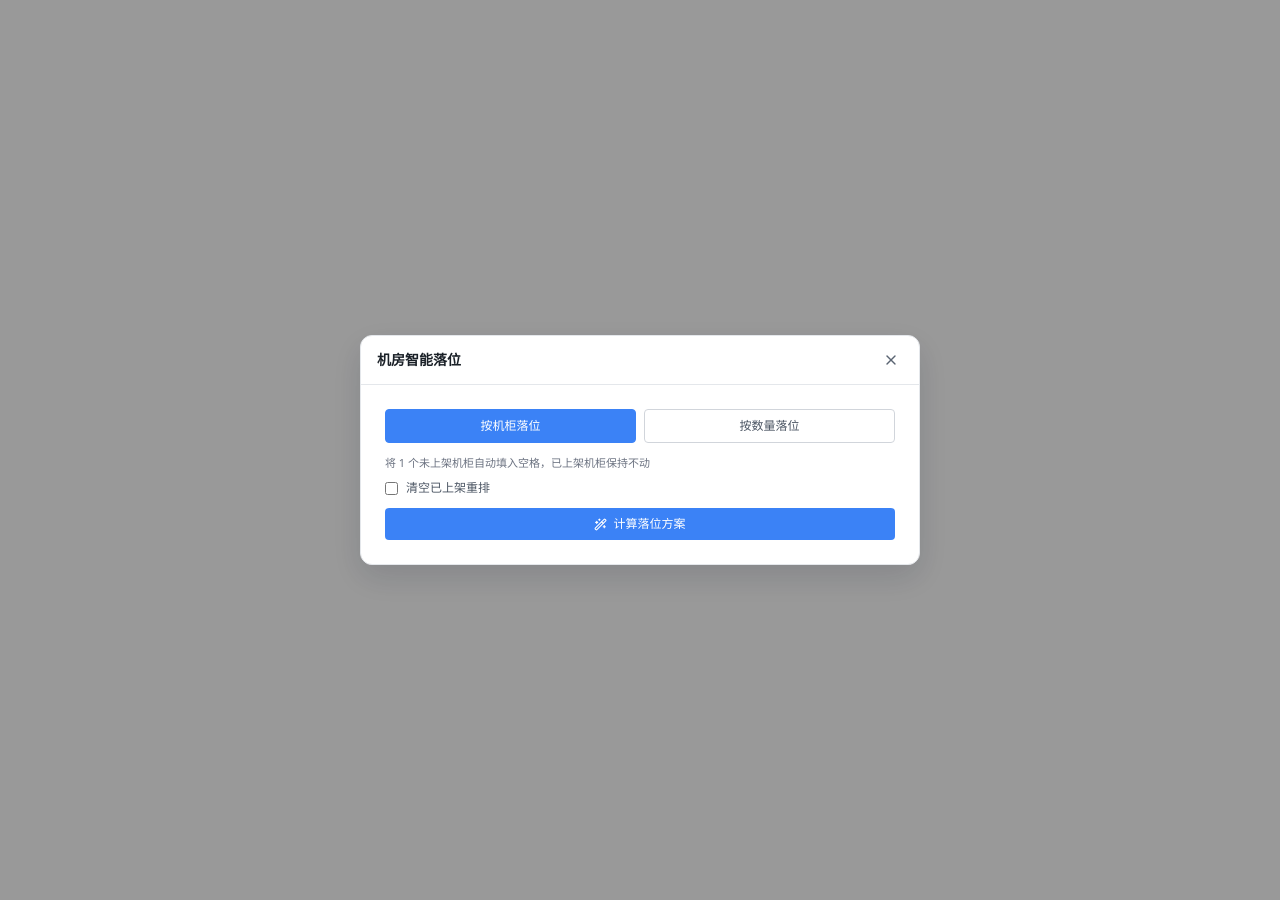
Test: RoomOptimizeModal › 按机柜落位：仅提交未上架机柜
This screenshot has width=1280, height=900.
Check: the text "将 1 个未上架机柜自动填入空格，已上架机柜保持不动" is shown, box x1=385 y1=455 x2=650 y2=470
Click the button "计算落位方案" at (640, 524), box x1=385 y1=508 x2=895 y2=540
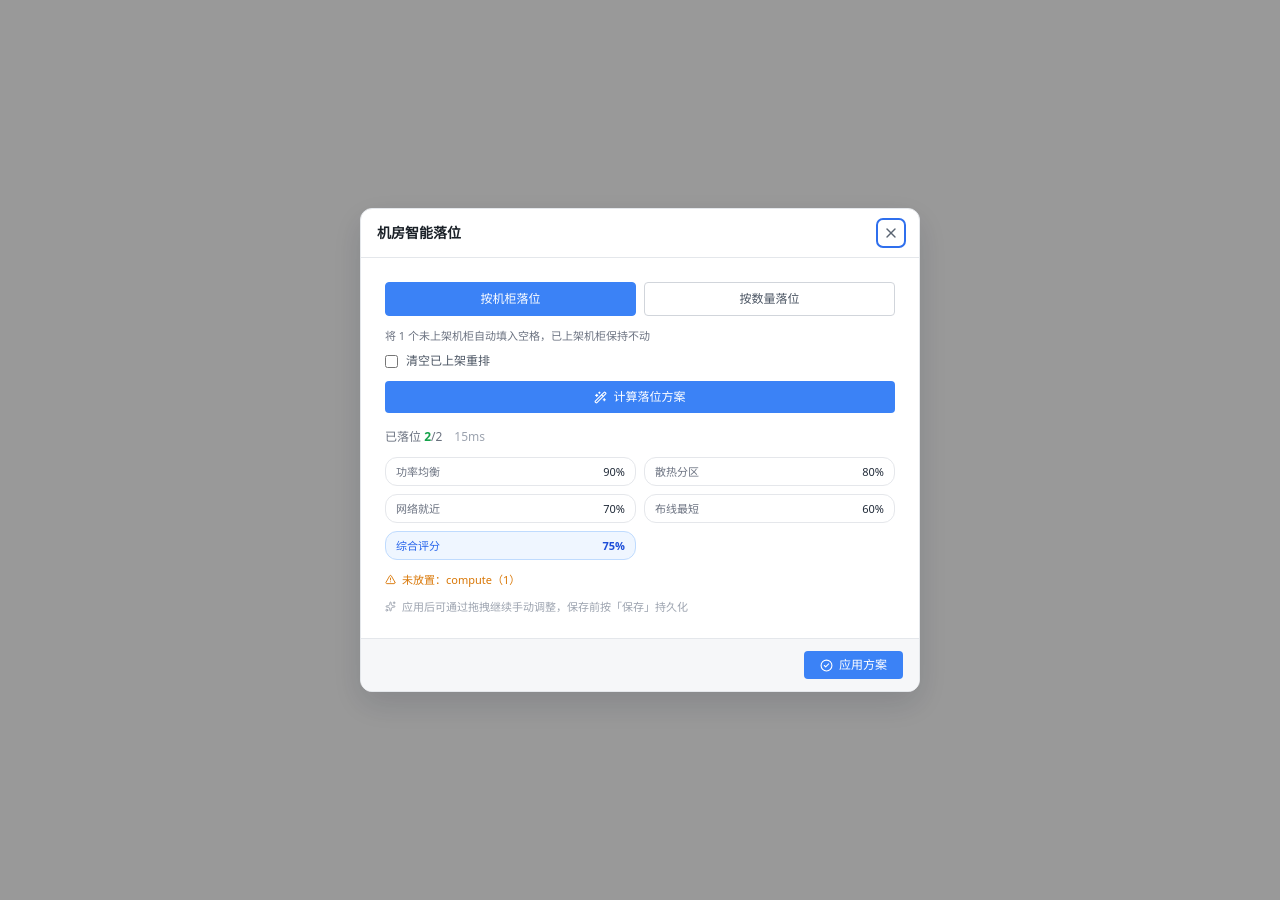
Check: the text "已落位 2/2" is shown, box x1=385 y1=429 x2=442 y2=445
